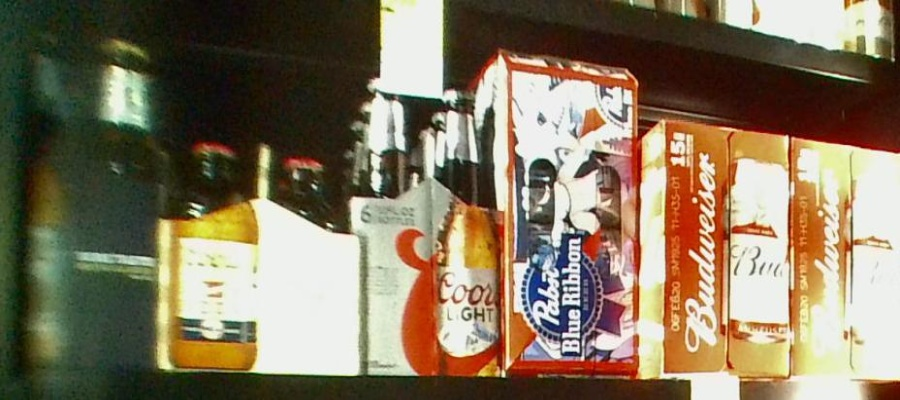bottle: (6, 29, 160, 371), (159, 134, 358, 375), (497, 48, 640, 377), (362, 75, 500, 376), (639, 122, 789, 382), (795, 135, 900, 381)
